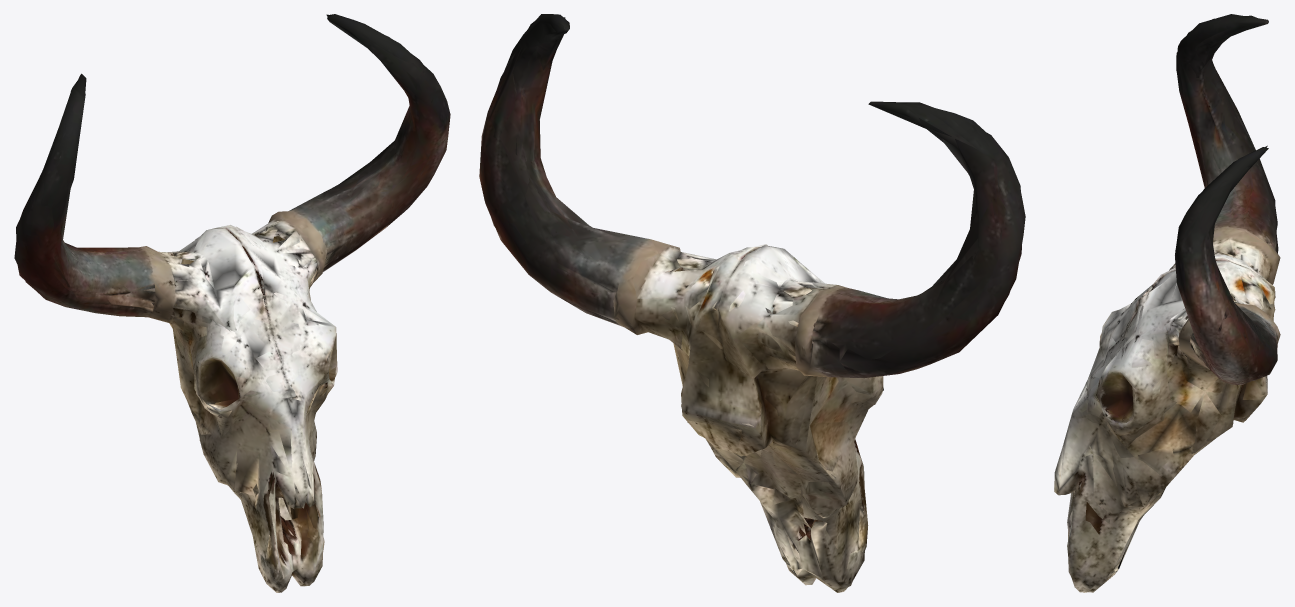
The model's file is bull-skull.glb.
3 renders of one model, left to right at view 1: azimuth 30°, elevation 25°; view 2: azimuth 150°, elevation 25°; view 3: azimuth 270°, elevation 25°, orthographic. The views are drawn at different scales.
Parts seen in each view (by area): view 1: bull-skull; view 2: bull-skull; view 3: bull-skull.
Boxes of the visible parts, left/top/right/bottom form: bull-skull: left=14, top=14, right=450, bottom=592; bull-skull: left=479, top=14, right=1025, bottom=592; bull-skull: left=1054, top=14, right=1280, bottom=592.
Size of the model in its own units: 1.1 by 1.19 by 0.4834.
1 material, 1 textured.
